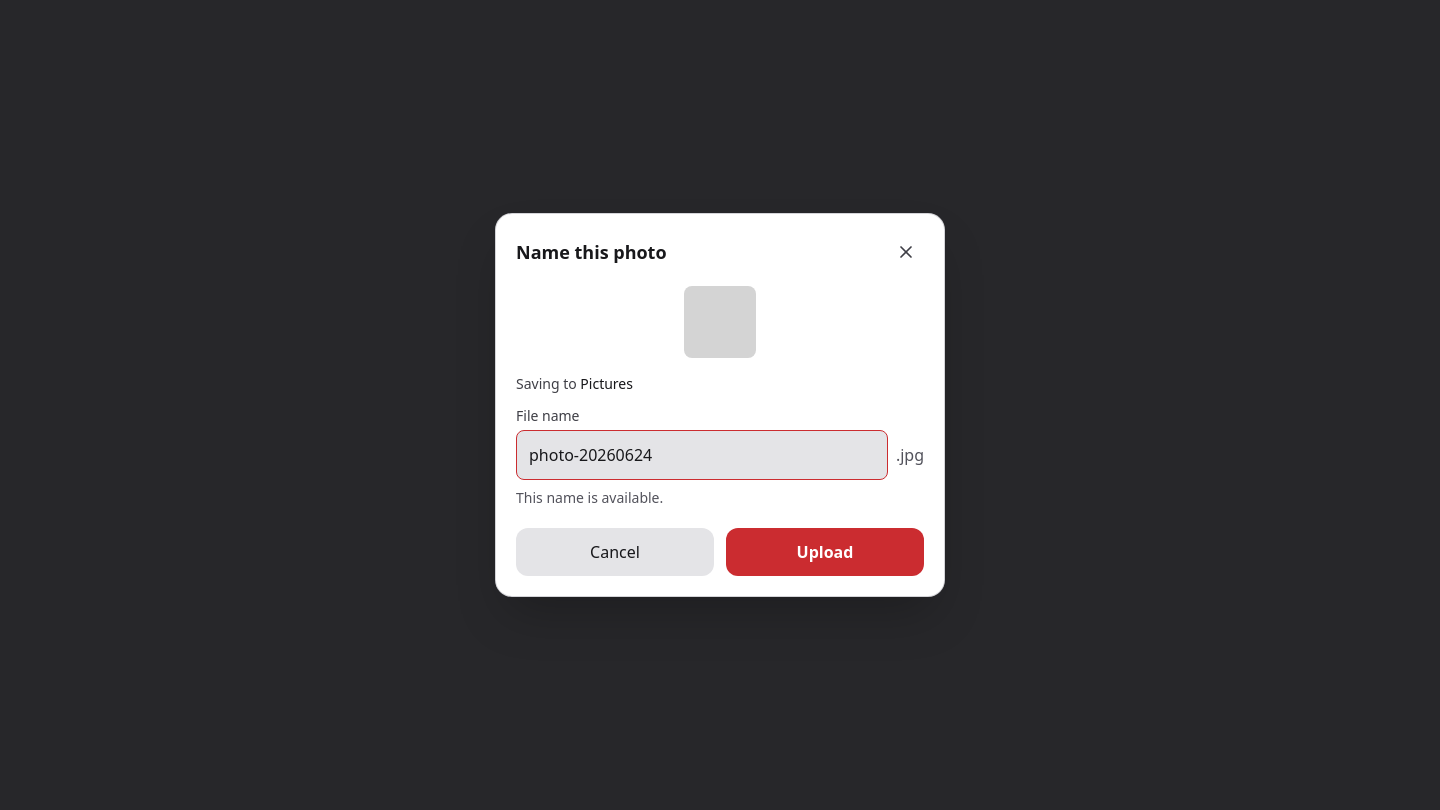
Scenario: NameImageModal › blocks a duplicate name (case-insensitive) and disables upload
Replace the text in the field labelled "File name" with "unit-4412-front" at (702, 455), box top-left (516, 430), bottom-right (888, 480)
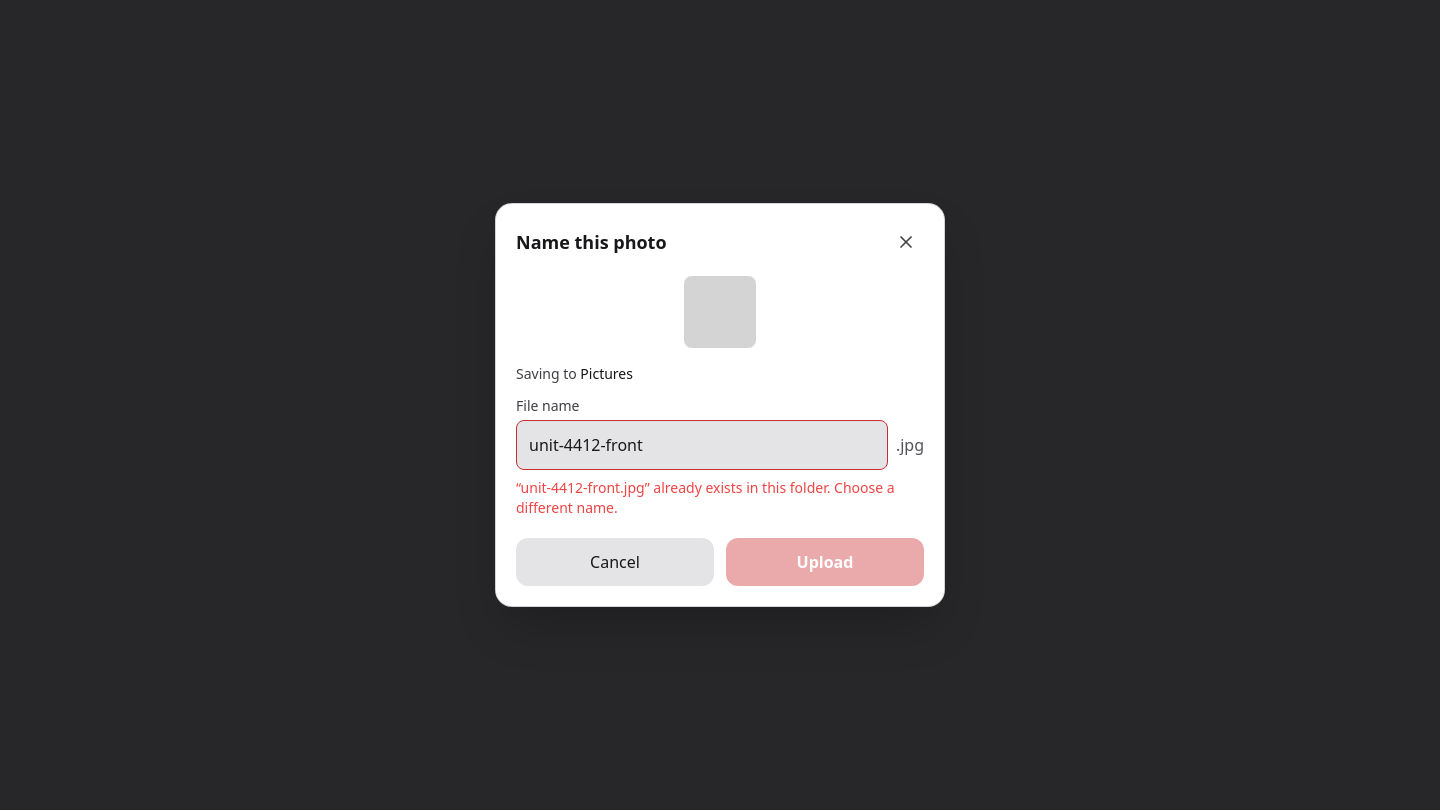
Expected: the button "Upload" is disabled, top-left (726, 538), bottom-right (924, 586)
Expected: the text "already exists" is shown, top-left (516, 478), bottom-right (895, 517)
